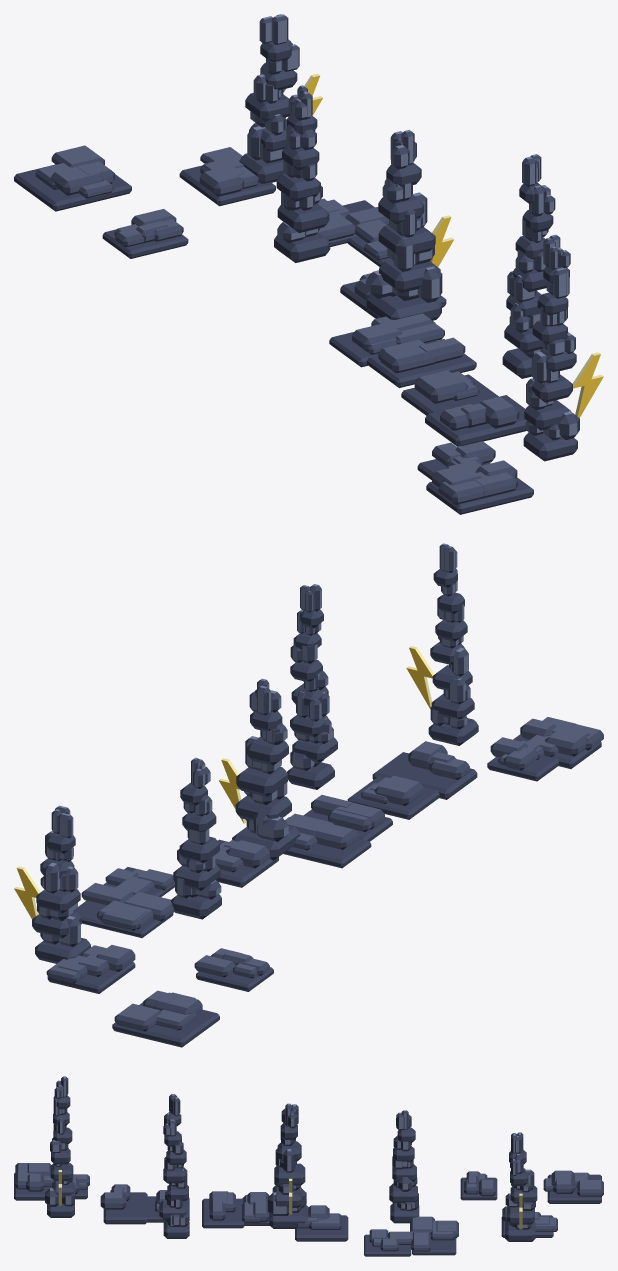
The model's file is tormenta_LadoIzq.glb.
3 views of the same model, one above another, from view 1: azimuth 30°, elevation 25°; view 2: azimuth 150°, elevation 25°; view 3: azimuth 270°, elevation 25° (orthographic). The views are drawn at different scales.
Parts seen in each view (by area): view 1: Mapa_tormenta_LadoIzq; view 2: Mapa_tormenta_LadoIzq; view 3: Mapa_tormenta_LadoIzq.
Part boxes in pixels (bbox=[...]): Mapa_tormenta_LadoIzq: bbox=[14, 14, 603, 514]; Mapa_tormenta_LadoIzq: bbox=[14, 543, 603, 1047]; Mapa_tormenta_LadoIzq: bbox=[14, 1076, 603, 1256].
Bounding box in the file's own units: 117 × 96.29 × 359.
Materials: 1 (1 with a texture image).
